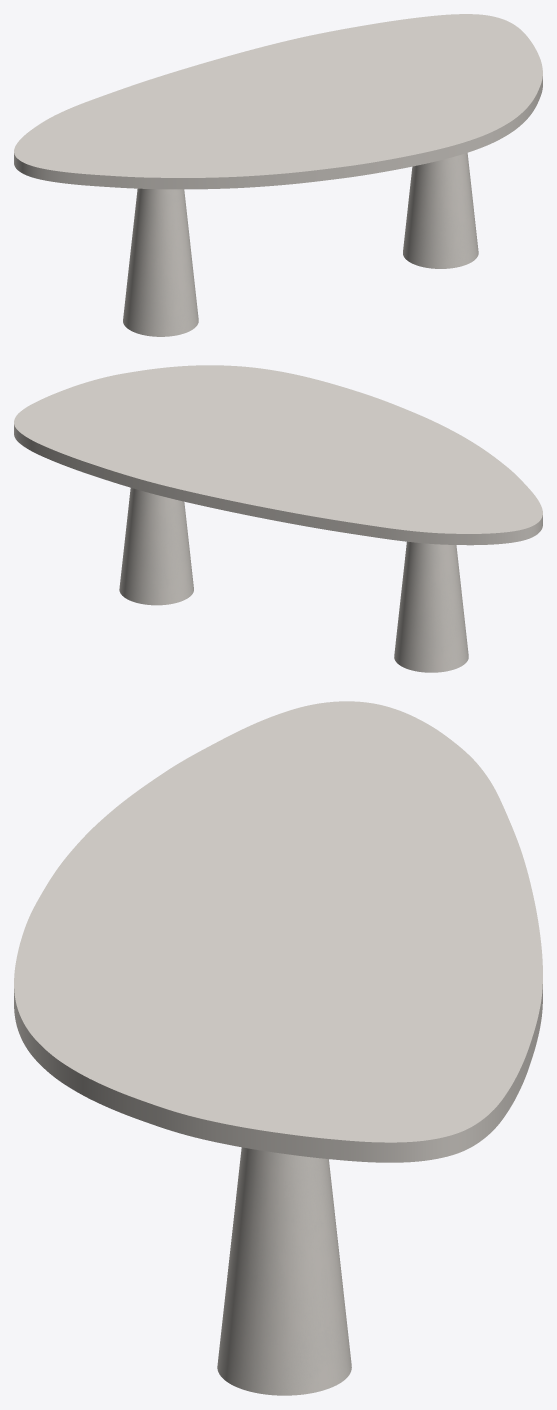
File: pearlwhite_pebbletop_standard_pebble.glb
3 views of the same model, one above another, from view 1: azimuth 30°, elevation 25°; view 2: azimuth 150°, elevation 25°; view 3: azimuth 270°, elevation 25° (orthographic). The views are drawn at different scales.
Parts seen in each view (by area): view 1: standard_pebbletop, pebble; view 2: standard_pebbletop, pebble; view 3: standard_pebbletop, pebble.
Part boxes in pixels (x1,y1,x2,y2): standard_pebbletop: (14, 14, 542, 189); pebble: (123, 153, 478, 336); standard_pebbletop: (14, 365, 542, 545); pebble: (119, 488, 468, 672); standard_pebbletop: (14, 701, 542, 1162); pebble: (217, 1147, 351, 1395).
Bounding box in the file's own units: 7.5 × 2.51 × 3.8.
1 material, 1 textured.
